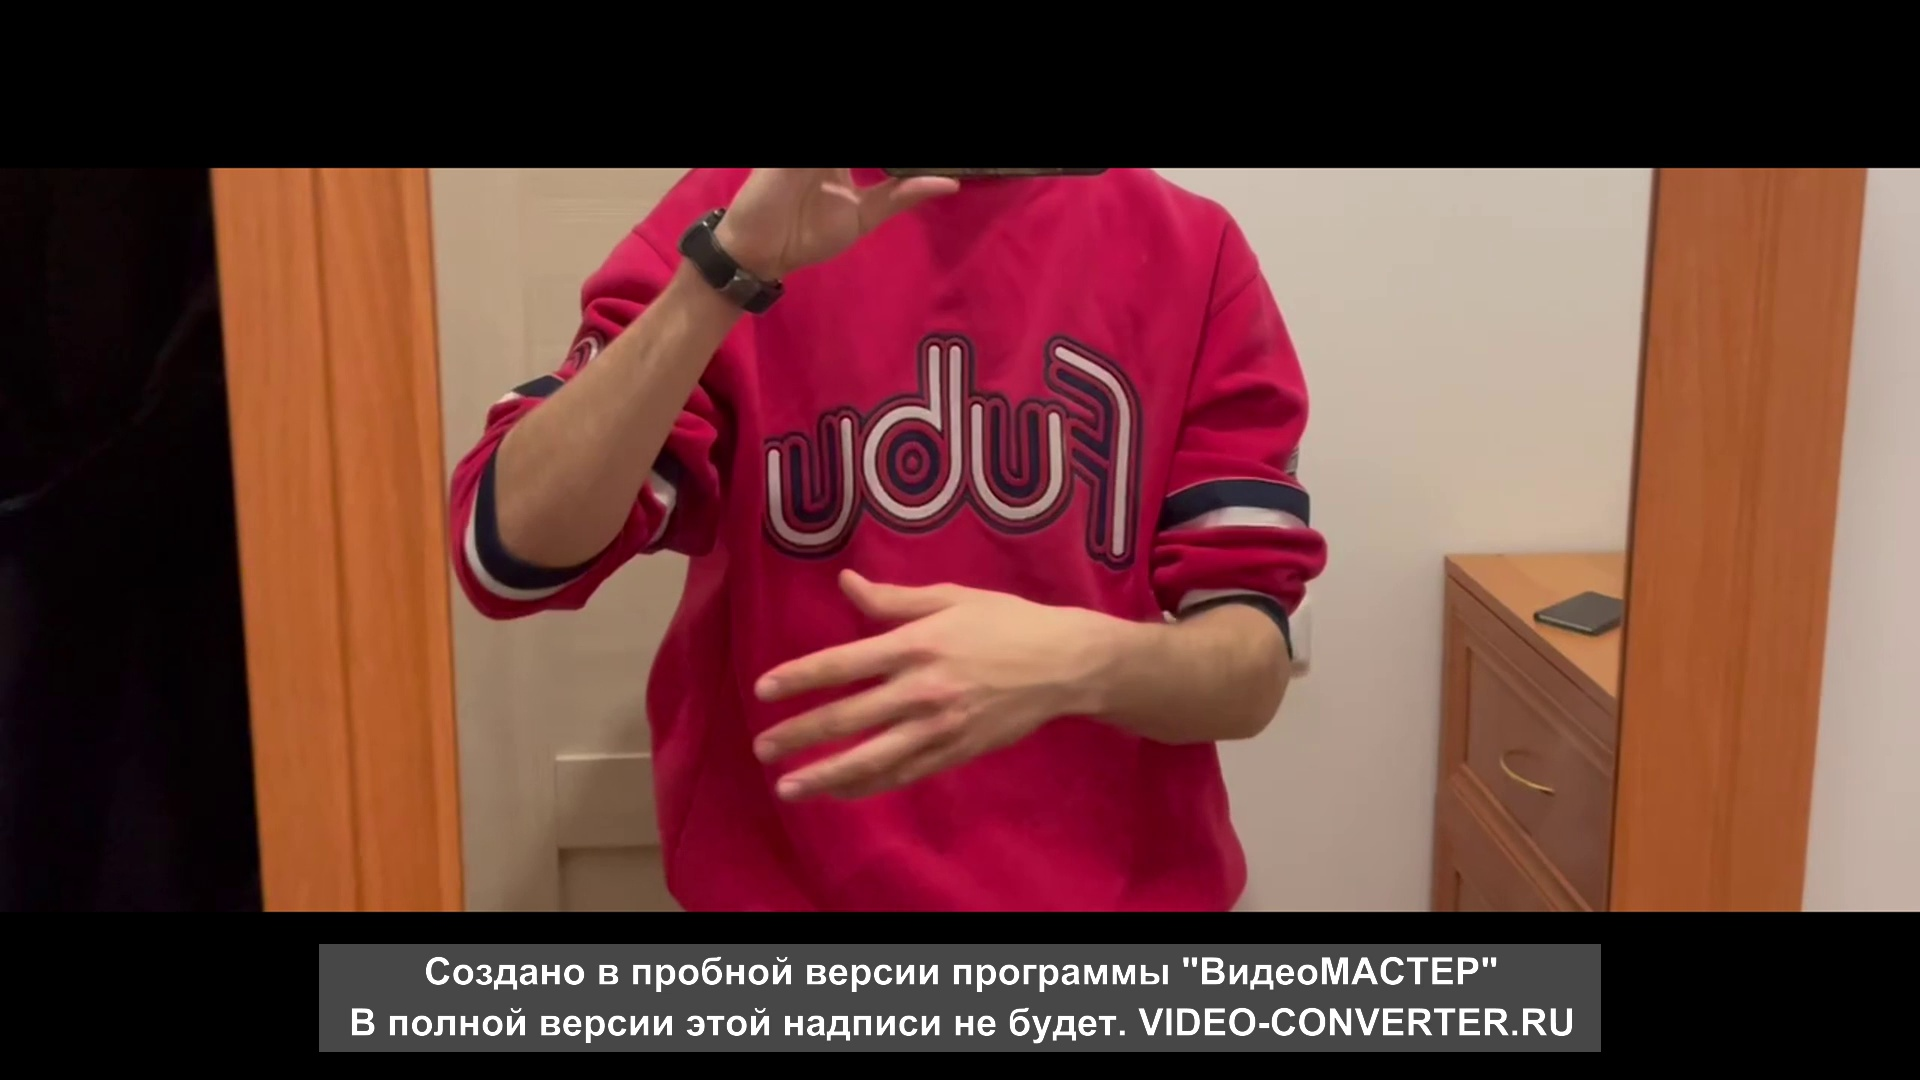Кисть: (746, 567, 1069, 804)
